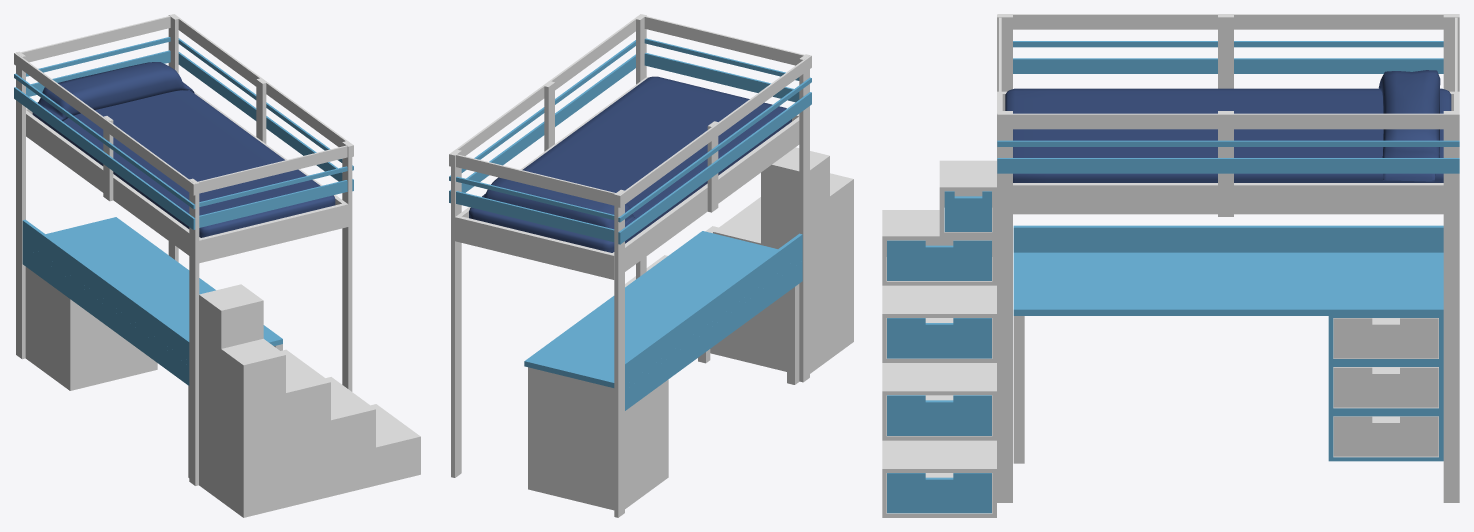
The model's file is sh_scopia_mezzanine_bed.glb.
3 views of the same model, side by side, from view 1: azimuth 30°, elevation 25°; view 2: azimuth 150°, elevation 25°; view 3: azimuth 270°, elevation 25° (orthographic). The views are drawn at different scales.
Size of the model in its own units: 1.22 by 1.93 by 2.59.
